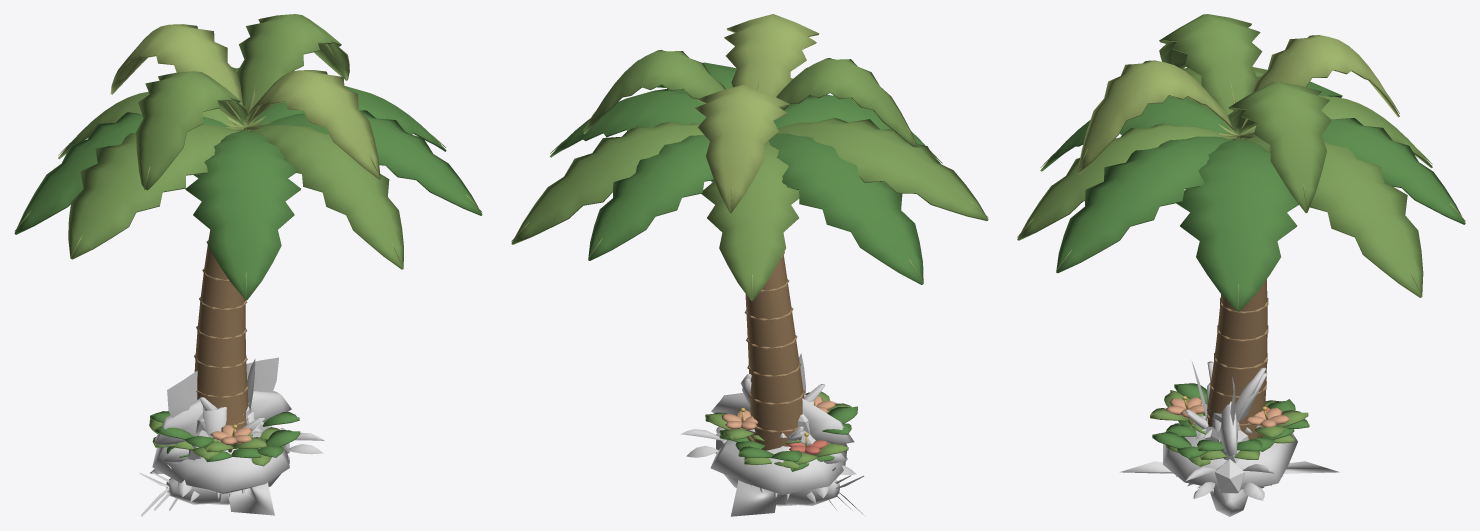
Rendered from tropical-vegetation.glb.
3 renders of one model, left to right at view 1: azimuth 30°, elevation 25°; view 2: azimuth 150°, elevation 25°; view 3: azimuth 270°, elevation 25°, orthographic. The views are drawn at different scales.
Parts seen in each view (by area): view 1: Palm, Bush, Rock, Reef_Table, Reef_Fan, Bird_A, Sea_SilverJack, Sea_Lobster, Reef_Tube; view 2: Palm, Bush, Rock, Reef_Table, Bird_A, Sea_Lobster, Sea_SilverJack; view 3: Palm, Bush, Rock, Sea_Lobster, Bird_A, Sea_SilverJack, Reef_Table, Reef_Staghorn.
Part boxes in pixels (bbox=[...]): Palm: bbox=[14, 14, 482, 429]; Bush: bbox=[149, 411, 300, 466]; Rock: bbox=[152, 440, 289, 494]; Reef_Table: bbox=[155, 390, 291, 445]; Reef_Fan: bbox=[167, 357, 278, 417]; Bird_A: bbox=[190, 482, 274, 515]; Sea_SilverJack: bbox=[139, 455, 289, 516]; Sea_Lobster: bbox=[150, 425, 324, 497]; Reef_Tube: bbox=[202, 406, 253, 440]; Palm: bbox=[511, 14, 988, 450]; Bush: bbox=[705, 391, 857, 471]; Rock: bbox=[710, 440, 847, 494]; Reef_Table: bbox=[711, 393, 854, 444]; Bird_A: bbox=[731, 456, 847, 516]; Sea_Lobster: bbox=[680, 427, 856, 498]; Sea_SilverJack: bbox=[724, 474, 865, 516]; Palm: bbox=[1017, 14, 1465, 439]; Bush: bbox=[1150, 383, 1309, 466]; Rock: bbox=[1163, 422, 1297, 490]; Sea_Lobster: bbox=[1185, 459, 1273, 500]; Bird_A: bbox=[1120, 461, 1339, 473]; Sea_SilverJack: bbox=[1197, 485, 1263, 516]; Reef_Table: bbox=[1220, 401, 1237, 455]; Reef_Staghorn: bbox=[1185, 361, 1267, 423].
Bounding box in the file's own units: 4.56 × 4.82 × 4.21.
